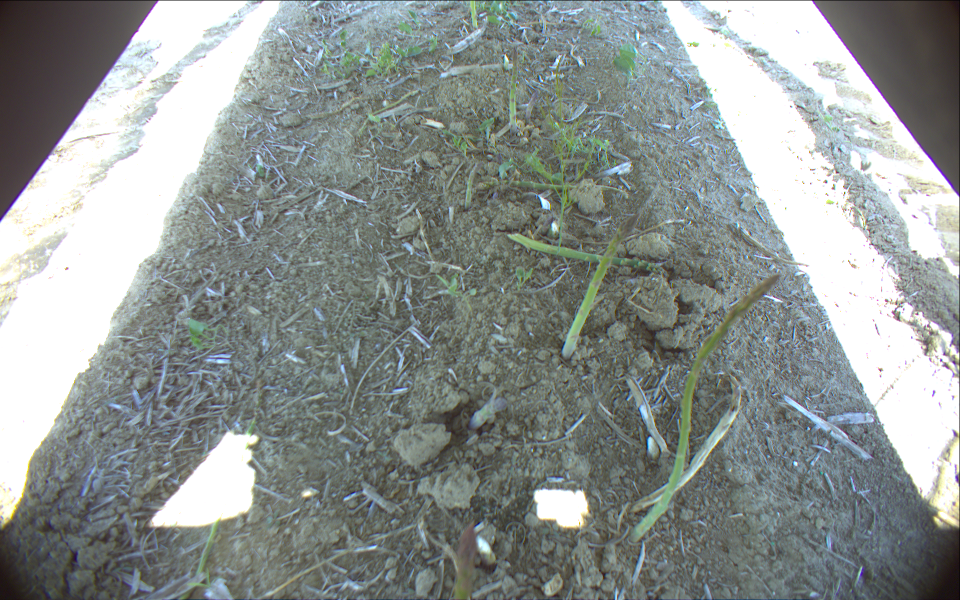aspa: (624, 271, 783, 550), (558, 212, 642, 363), (448, 521, 486, 600), (504, 44, 523, 134)
